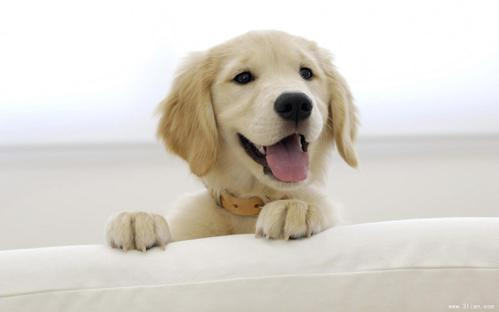dog: (153, 29, 369, 209)
